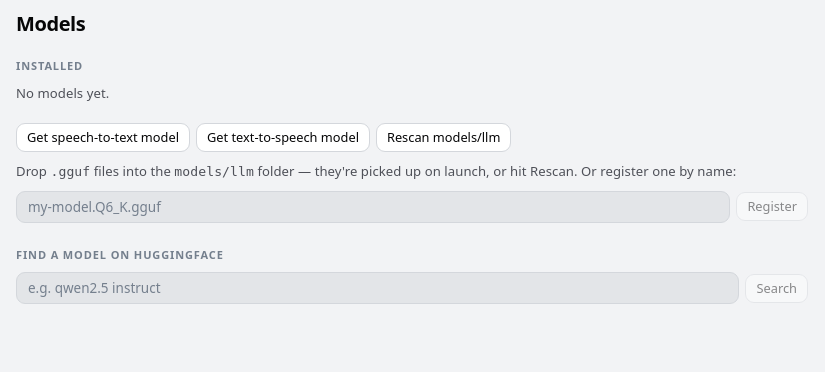
Scenario: Models page › rescans the llm folder
Click the button "Rescan models/llm".
click(444, 137)  # box [376,123,511,152]
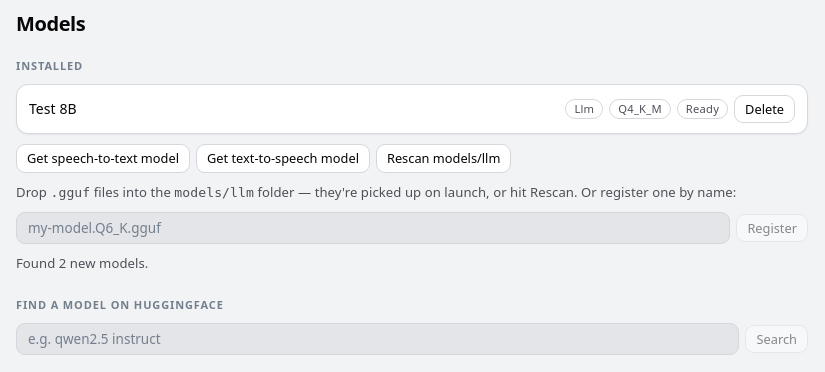
Check: the text "Found 2 new models." is shown, box [16,254,148,272]
